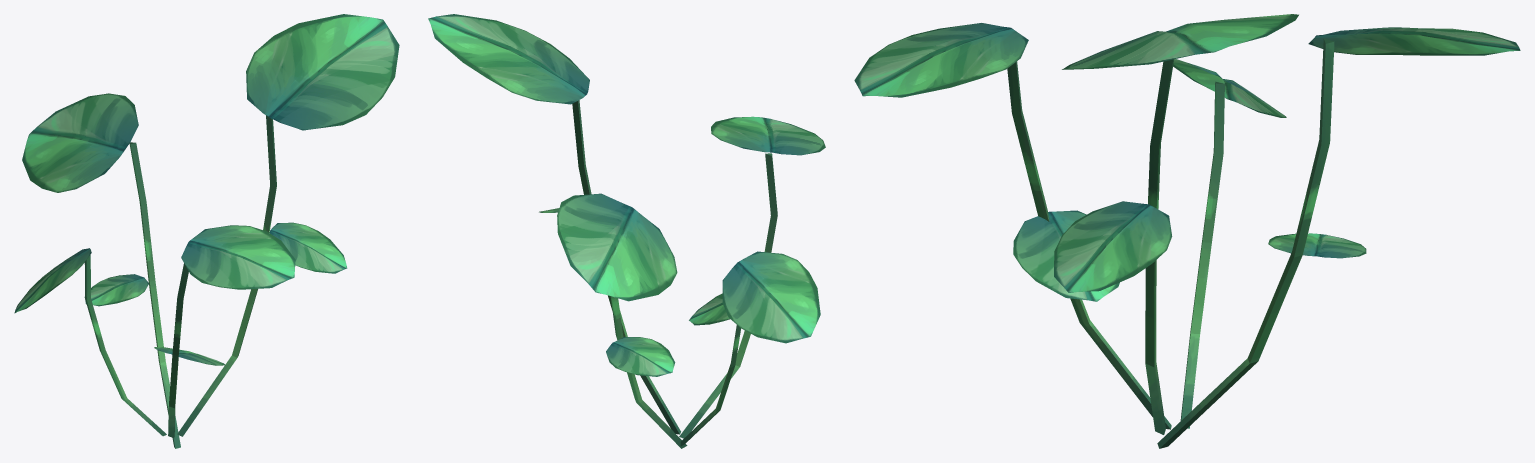
File: mesh_pilea.fbx
3 renders of one model, left to right at view 1: azimuth 30°, elevation 25°; view 2: azimuth 150°, elevation 25°; view 3: azimuth 270°, elevation 25°, orthographic. The views are drawn at different scales.
Visible parts, largest first — view 1: pilea; view 2: pilea; view 3: pilea.
Boxes of the visible parts, x1,y1,x2,y2 form: pilea: (14, 14, 399, 448); pilea: (428, 14, 825, 448); pilea: (854, 14, 1520, 448).
Bounding box in the file's own units: 0.4002 × 0.3797 × 0.4055.
